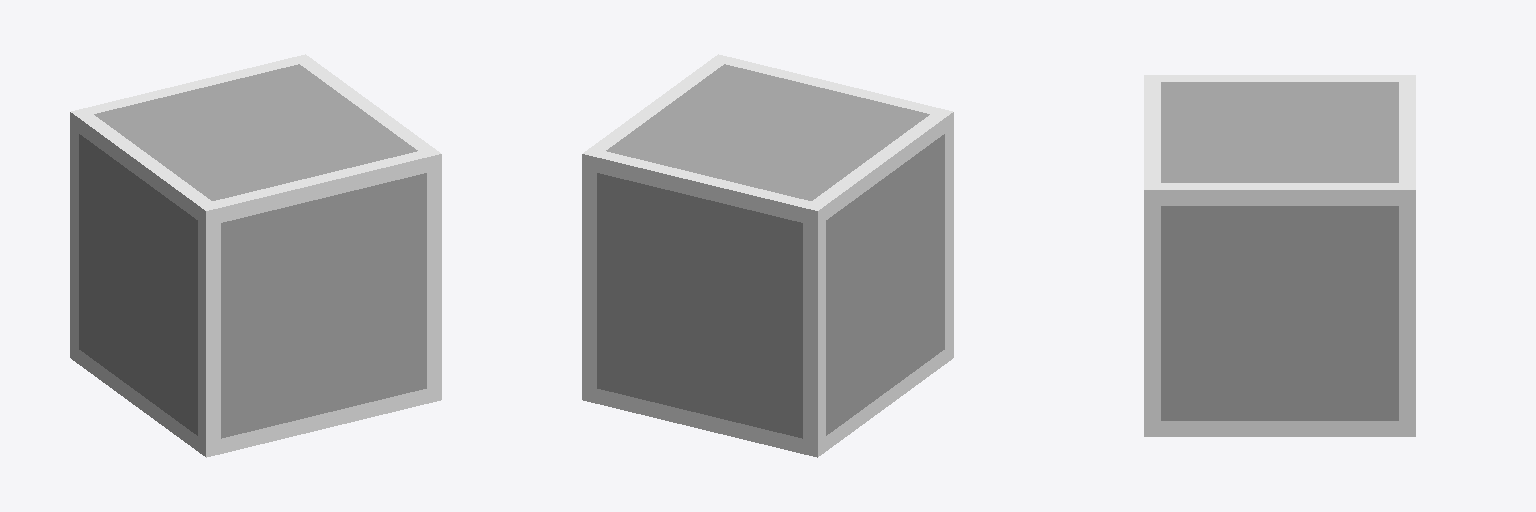
The picture shows the model from 3 angles: view 1: azimuth 30°, elevation 25°; view 2: azimuth 150°, elevation 25°; view 3: azimuth 270°, elevation 25°; orthographic projection.
Parts seen in each view (by area): view 1: Block; view 2: Block; view 3: Block.
Part boxes in pixels (bbox=[...]): Block: bbox=[70, 54, 441, 457]; Block: bbox=[582, 54, 953, 457]; Block: bbox=[1144, 75, 1415, 436].
Size of the model in its own units: 1 by 1 by 1.
1 materials, 1 textured.